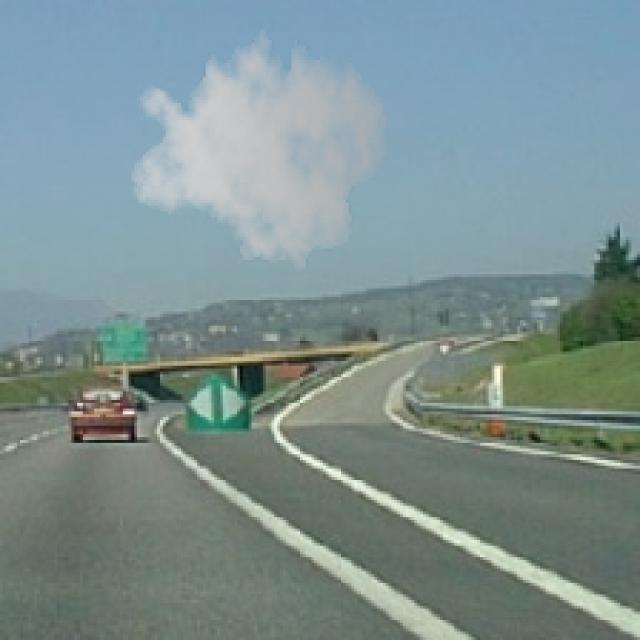smoke: (128, 17, 388, 277)
